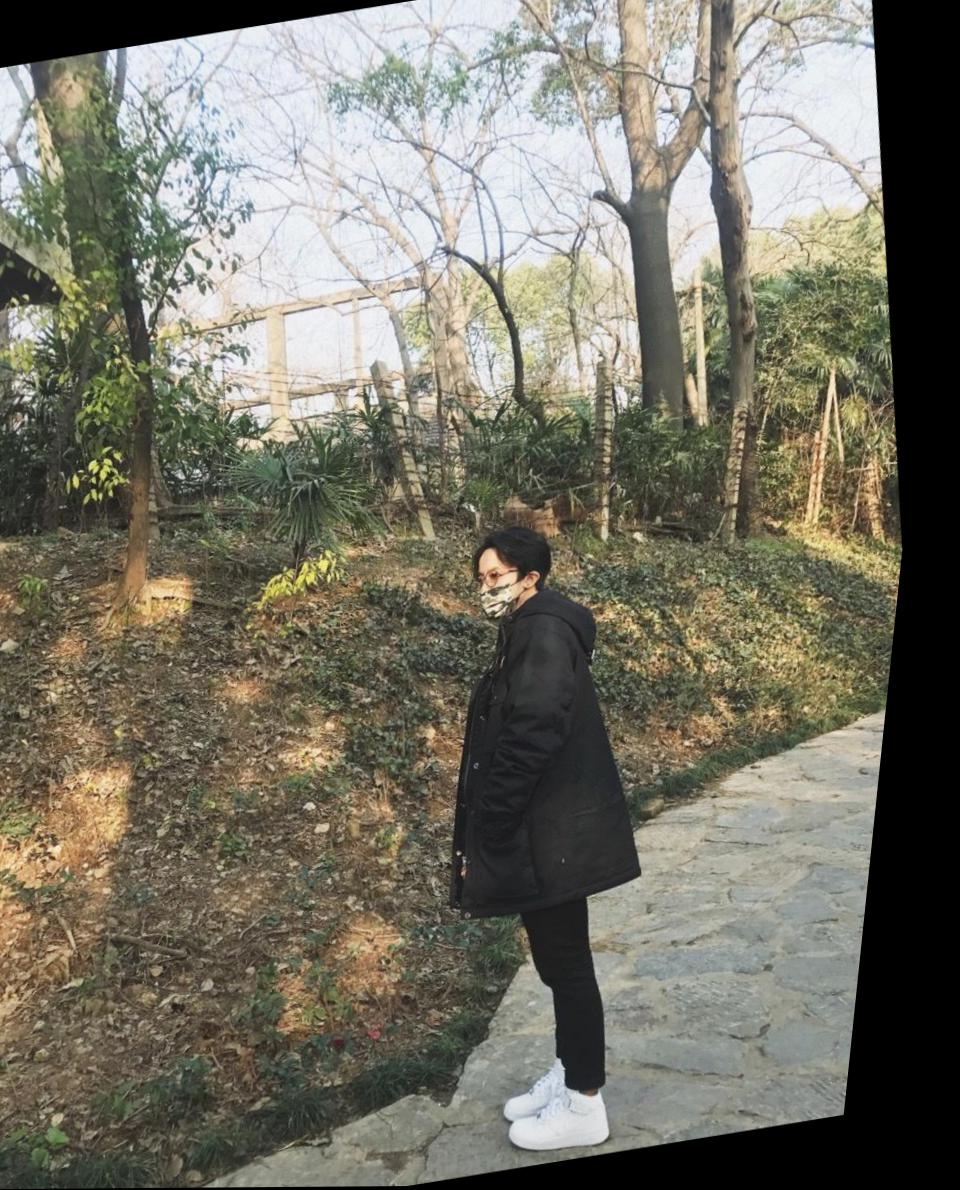WRONG: (484, 555, 541, 625)
